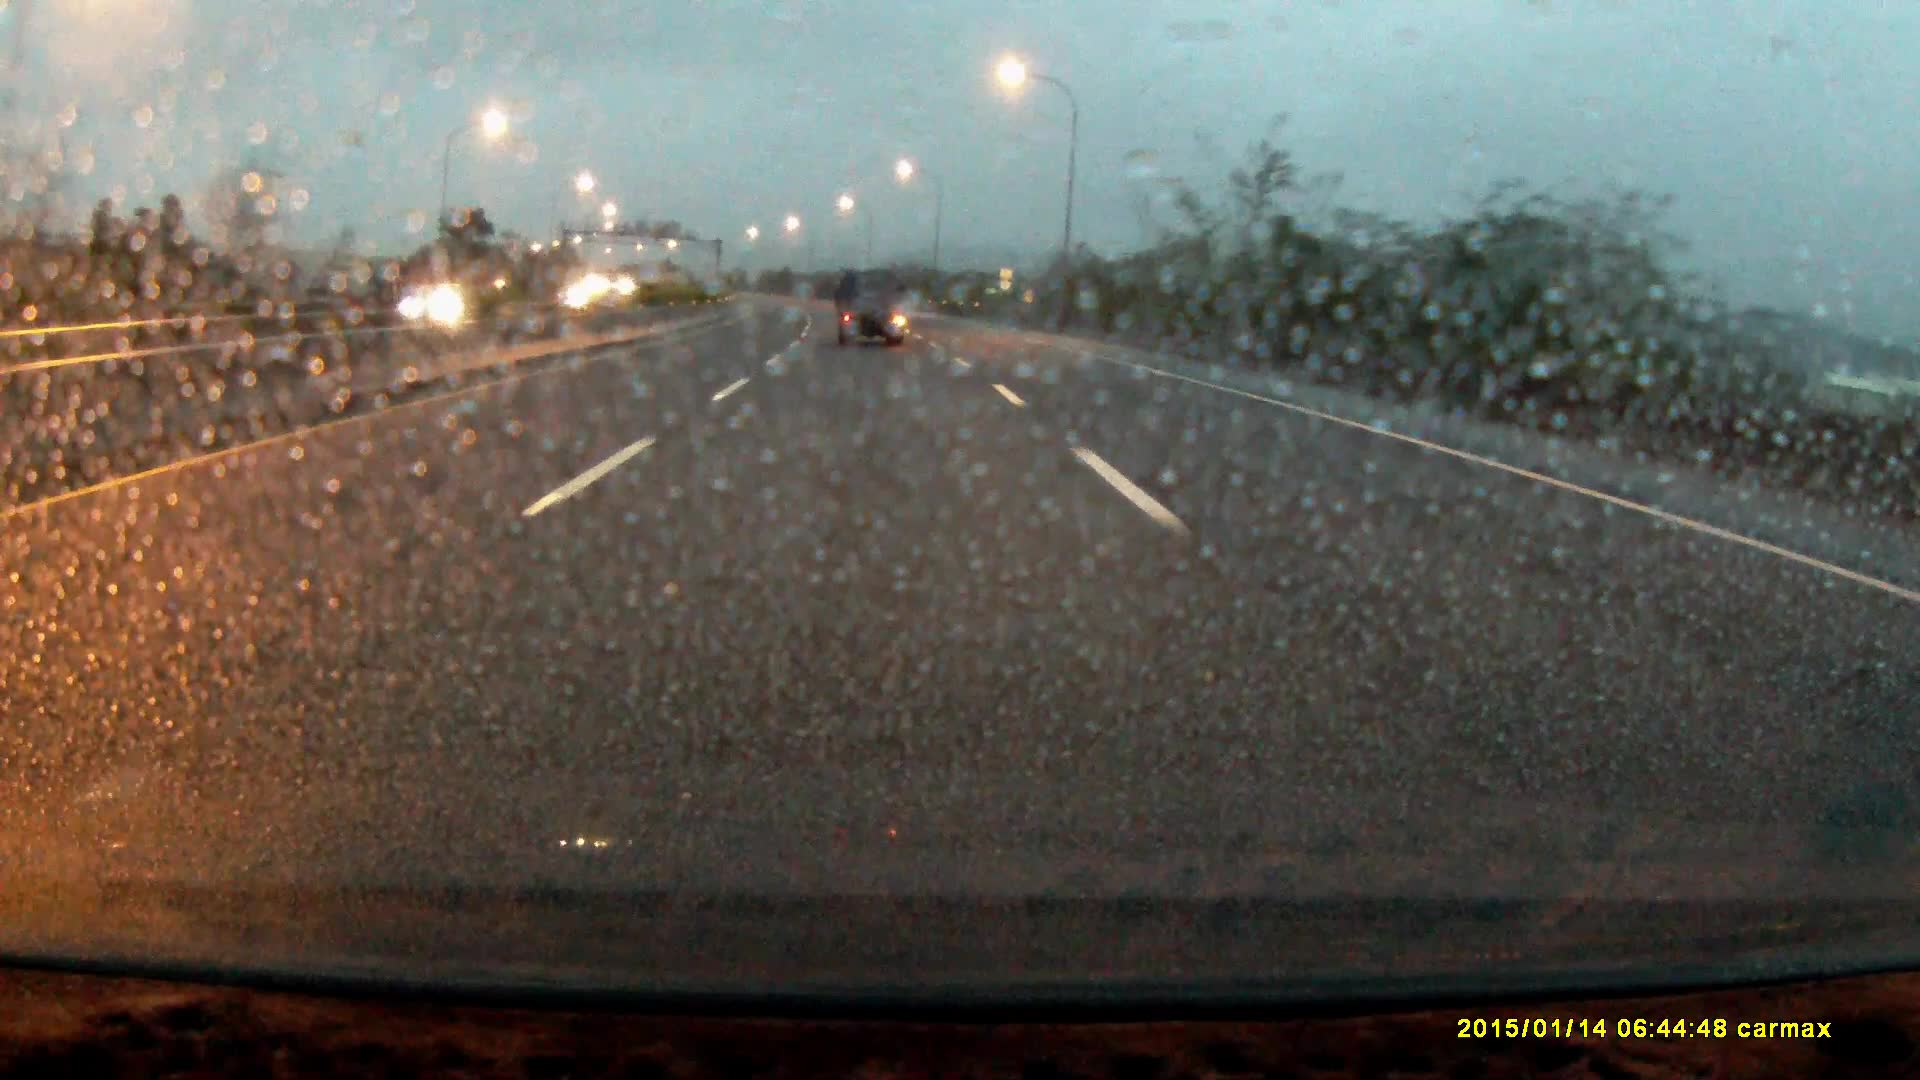vehicle: (836, 276, 906, 351), (385, 287, 484, 331)
